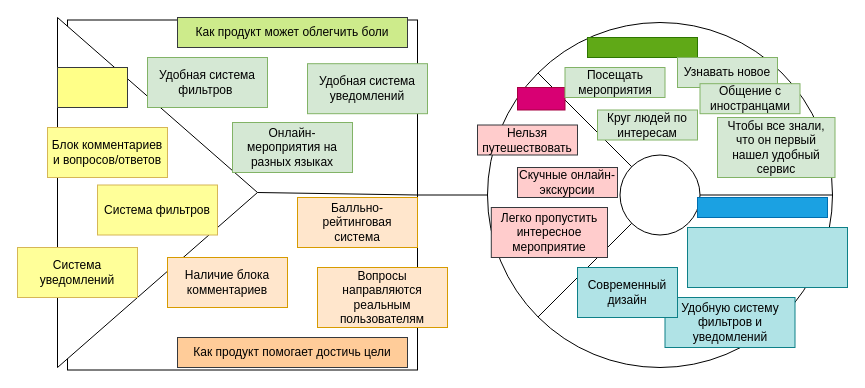
Image size: 865x388. Some labels were removed from this diagram. Each missing label, with the centre of its shape:
Боли: the point at 540,98
Быстрые ответы на свои вопросы от реальных пользователей: the point at 767,257
Продукты и сервисы: the point at 92,87
Чего ждет от сервиса: the point at 762,207
Чего хочет достичь: the point at 642,47
